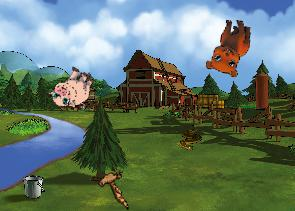bear: (204, 15, 252, 78)
eagle: (84, 160, 141, 210)
pig: (46, 61, 99, 116)
